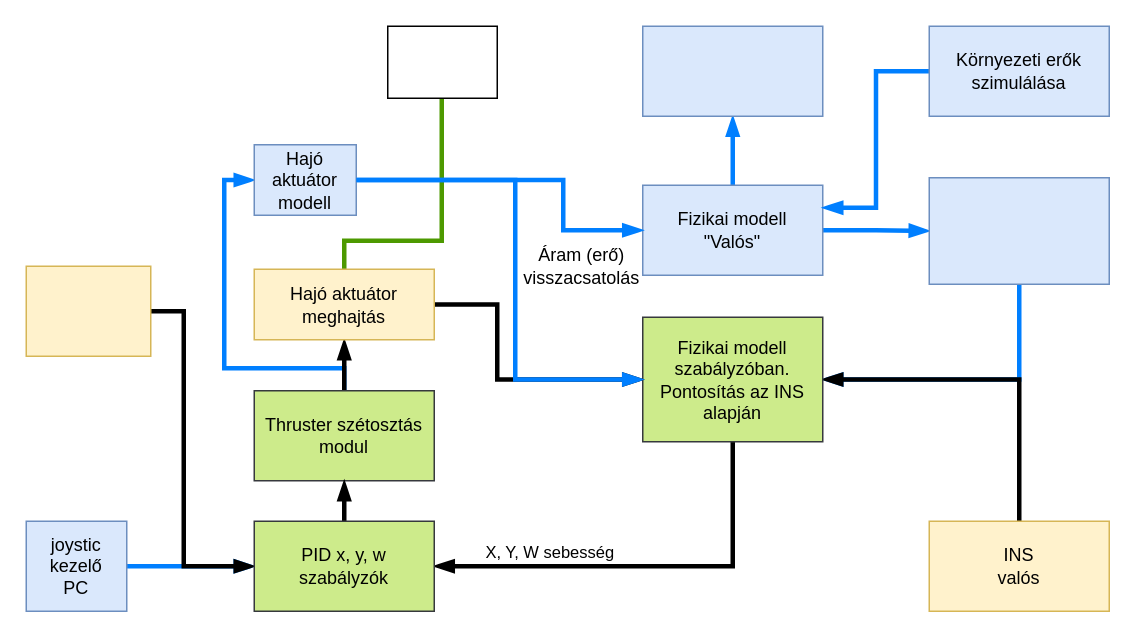
This 1136x638 diagram has some shape labels left out. The centre of each missing label's shape, as x and y in pixels:
Aktuátorok: the point at 441,61
INS szimulált + GPS hiba: the point at 1018,230
joystic kezelő HAJÓS: the point at 88,310
Megjelenító PC-n: the point at 732,70
